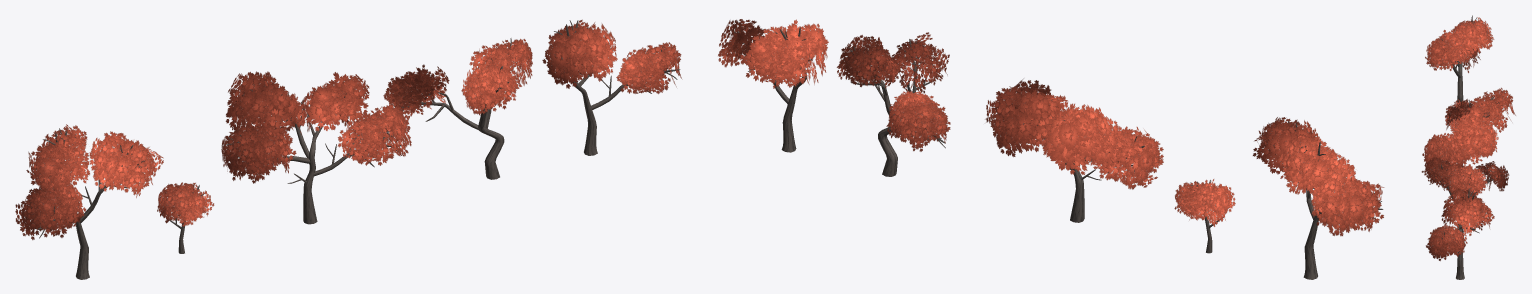
The model's file is MapleTrees.glb.
3 renders of one model, left to right at view 1: azimuth 30°, elevation 25°; view 2: azimuth 150°, elevation 25°; view 3: azimuth 270°, elevation 25°, orthographic. The views are drawn at different scales.
Parts seen in each view (by area): view 1: MapleTree_3, MapleTree_5, MapleTree_2, MapleTree_1, MapleTree_4; view 2: MapleTree_3, MapleTree_5, MapleTree_2, MapleTree_1, MapleTree_4; view 3: MapleTree_3, MapleTree_1, MapleTree_5, MapleTree_2, MapleTree_4.
Boxes of the visible parts, <box> form: MapleTree_3: <box>221,71,411,224</box>; MapleTree_5: <box>15,124,163,279</box>; MapleTree_2: <box>383,38,532,179</box>; MapleTree_1: <box>542,19,681,155</box>; MapleTree_4: <box>157,182,214,253</box>; MapleTree_3: <box>985,79,1163,222</box>; MapleTree_5: <box>1253,117,1384,279</box>; MapleTree_2: <box>837,32,950,176</box>; MapleTree_1: <box>718,19,828,152</box>; MapleTree_4: <box>1174,179,1235,253</box>; MapleTree_3: <box>1422,87,1515,175</box>; MapleTree_1: <box>1426,188,1494,279</box>; MapleTree_5: <box>1425,15,1494,105</box>; MapleTree_2: <box>1421,157,1509,246</box>; MapleTree_4: <box>1445,99,1469,131</box>.
Size of the model in its own units: 34.21 by 7.29 by 6.68.
2 materials, 2 textured.
